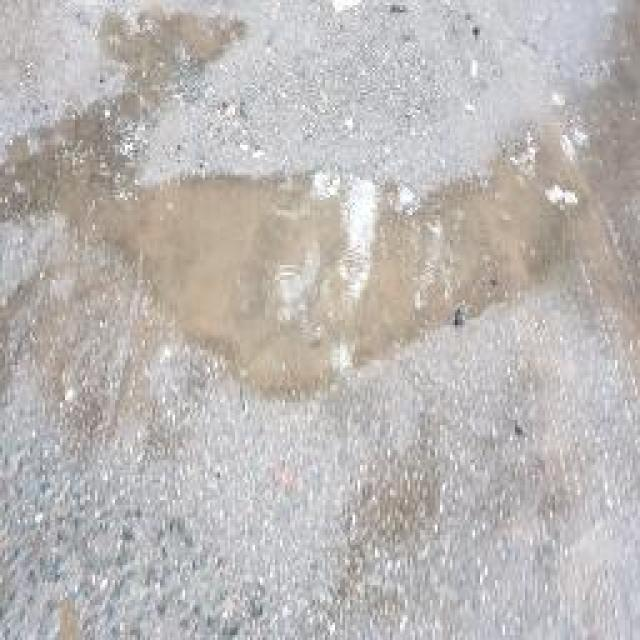stagnation: (62, 99, 595, 407)
